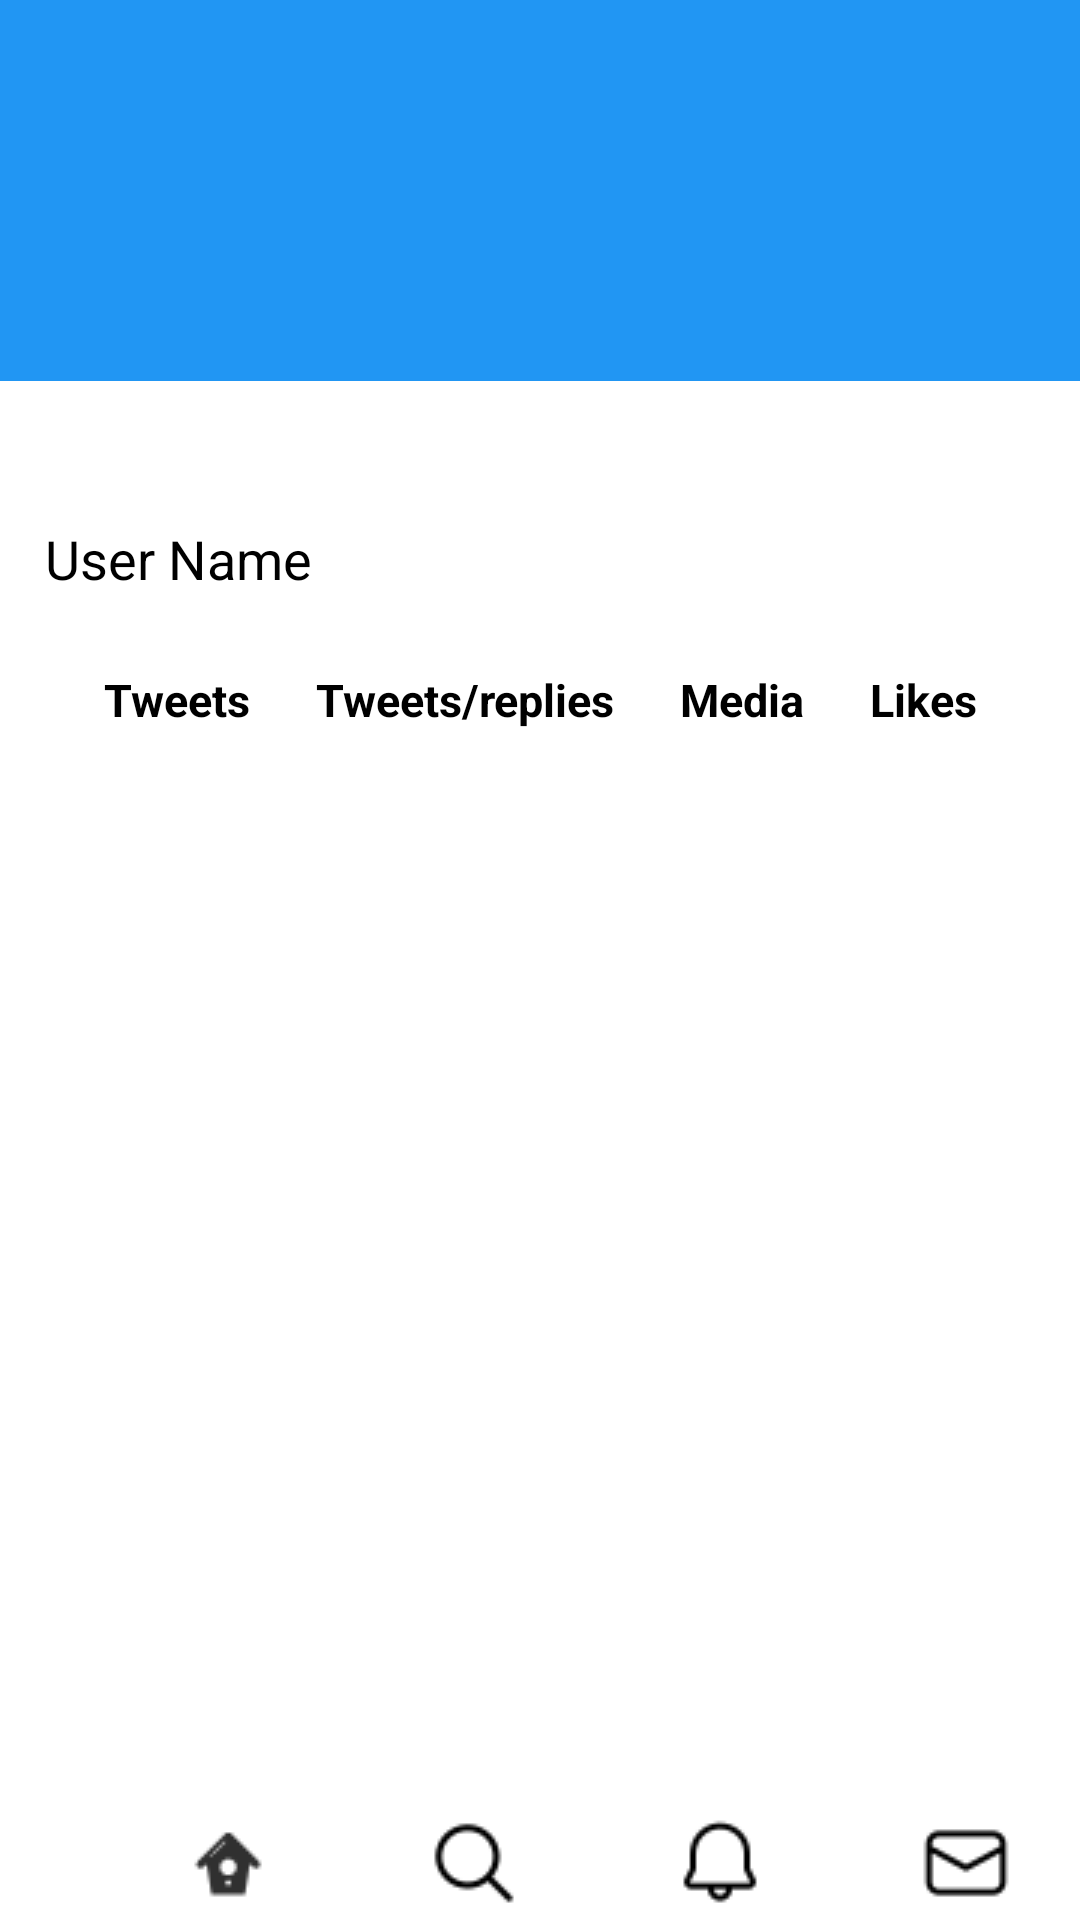

Icons on this 1080px×1920px Android screen, each with the point to tap as (x=x, y=y):
homeicon: (x=228, y=1864)
messageicon: (x=966, y=1863)
notificationicon: (x=720, y=1861)
searchicon: (x=474, y=1863)
